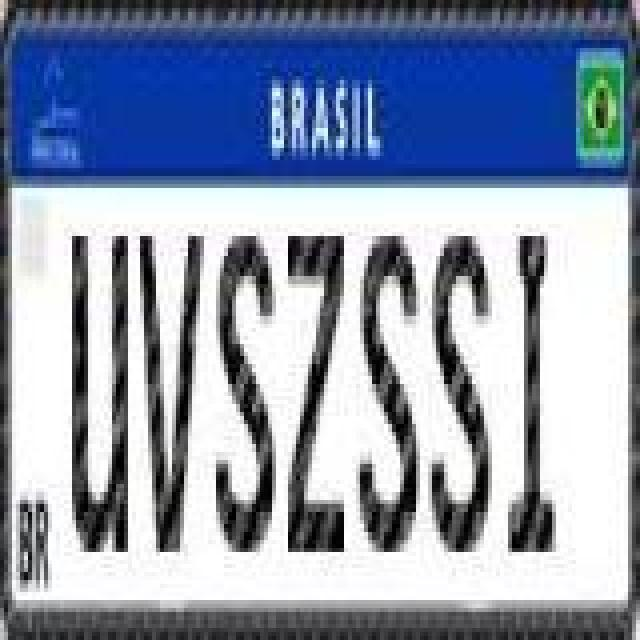I: (502, 224, 554, 560)
S: (216, 230, 280, 554), (356, 230, 420, 554), (428, 230, 492, 554)
U: (70, 230, 130, 554)
V: (138, 230, 206, 554)
Z: (286, 230, 346, 554)
